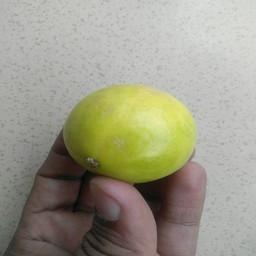Good_lime: (60, 78, 203, 189)
